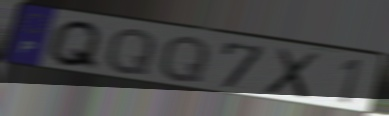1: (339, 59, 365, 107)
7: (217, 40, 268, 90)
Q: (45, 19, 106, 73), (156, 34, 212, 85), (102, 27, 159, 77)
X: (261, 46, 323, 101)
